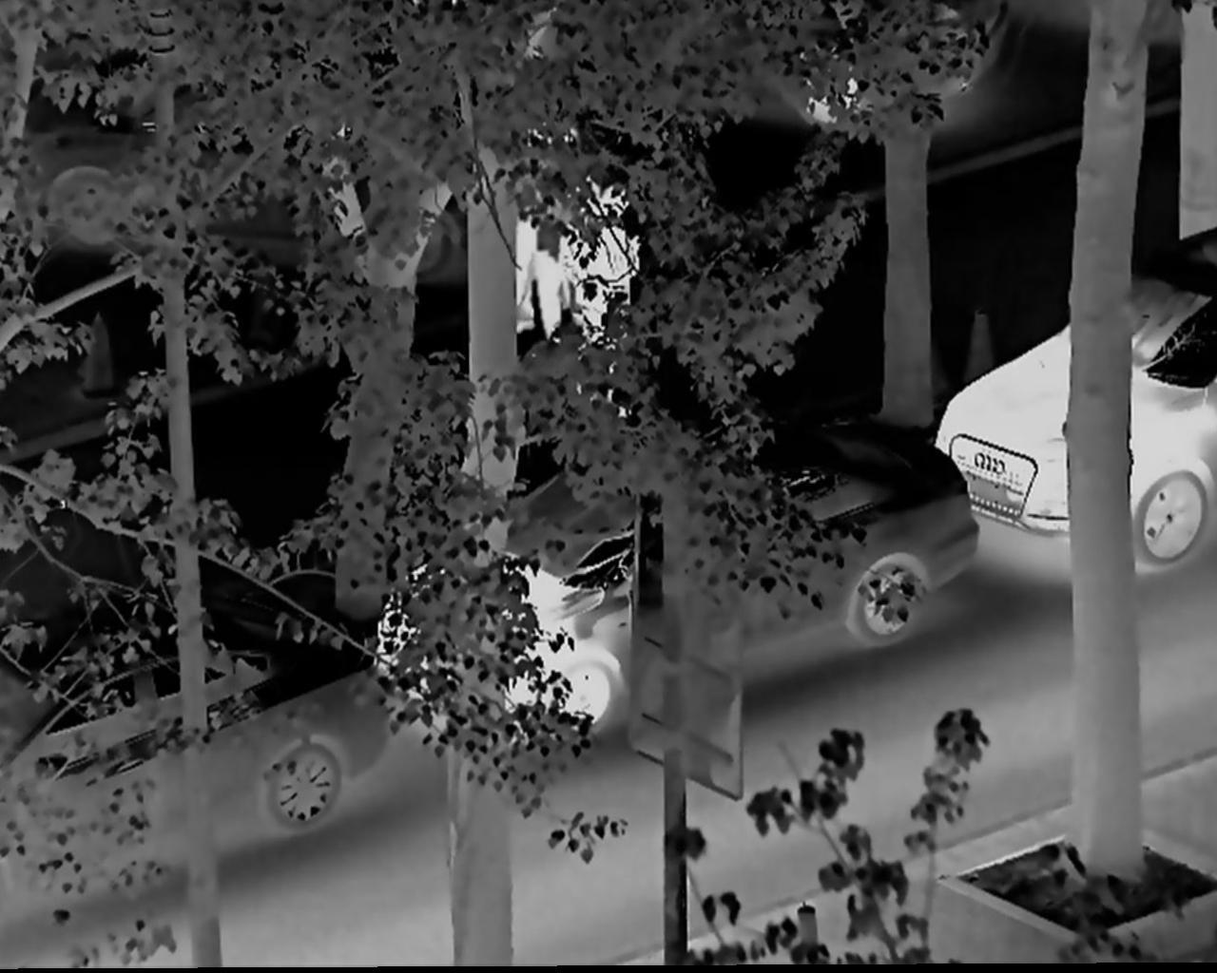person: (502, 144, 570, 347), (585, 178, 642, 372)
